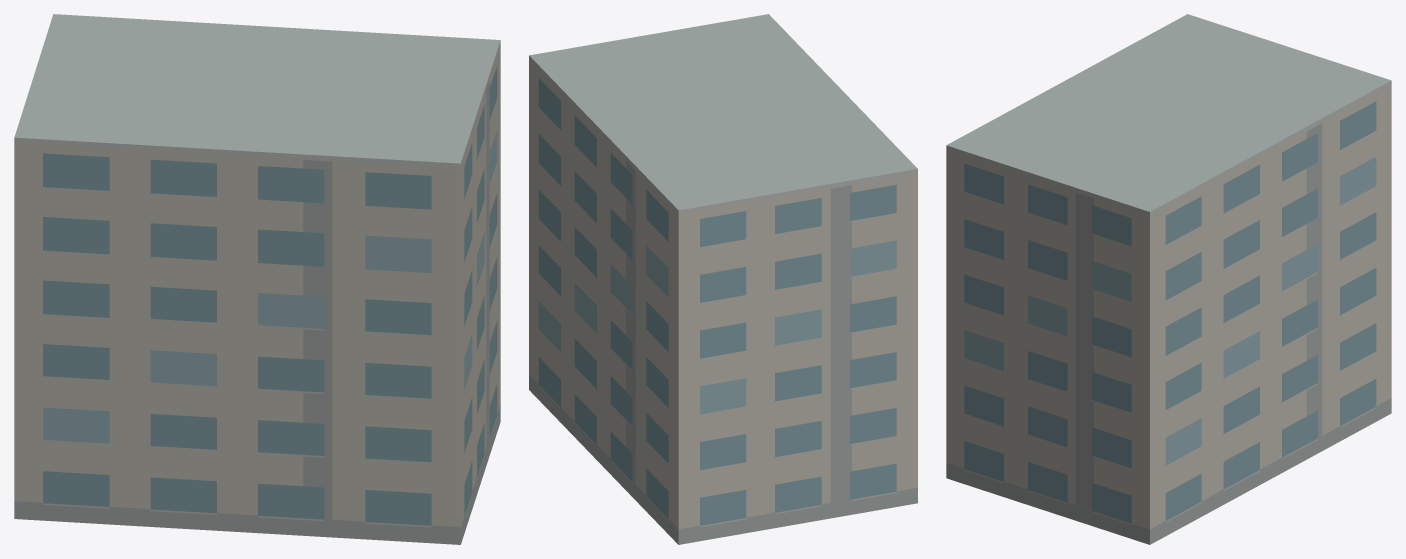
Rendered from survey-upis-32760744.glb.
3 renders of one model, left to right at view 1: azimuth 30°, elevation 25°; view 2: azimuth 150°, elevation 25°; view 3: azimuth 270°, elevation 25°, orthographic. The views are drawn at different scales.
Parts seen in each view (by area): view 1: survey-upis-32760744.tmp; view 2: survey-upis-32760744.tmp; view 3: survey-upis-32760744.tmp.
Part boxes in pixels (<box>): survey-upis-32760744.tmp: <box>14,14,500,544</box>; survey-upis-32760744.tmp: <box>529,14,917,544</box>; survey-upis-32760744.tmp: <box>946,14,1391,544</box>.
Bounding box in the file's own units: 22.01 × 17.25 × 20.93.
